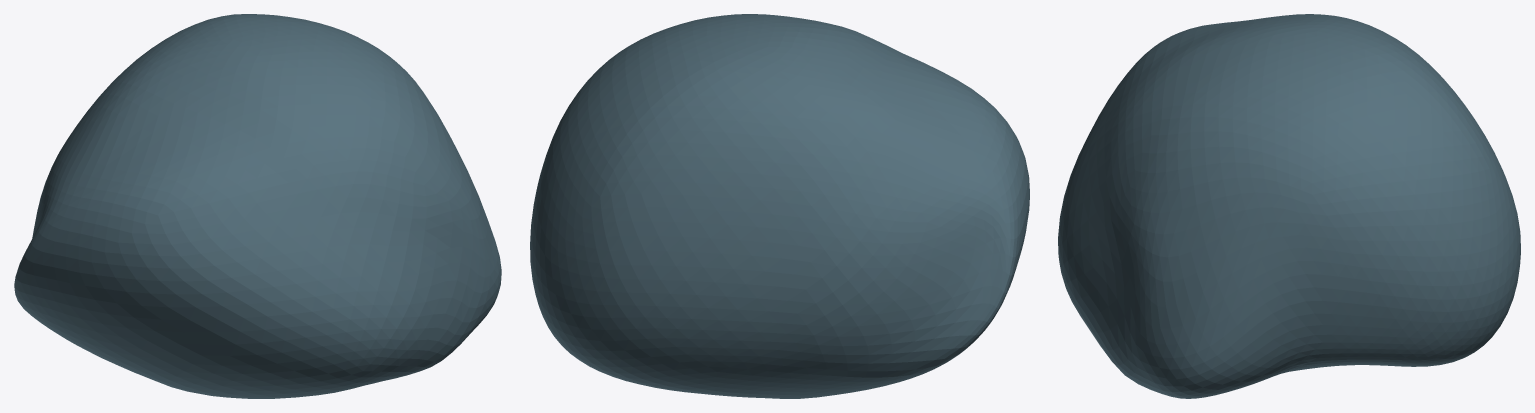
The model's file is Rock4.fbx.
3 views of the same model, side by side, from view 1: azimuth 30°, elevation 25°; view 2: azimuth 150°, elevation 25°; view 3: azimuth 270°, elevation 25° (orthographic). The views are drawn at different scales.
Visible parts, largest first — view 1: Rock4; view 2: Rock4; view 3: Rock4.
Boxes of the visible parts, bbox=[...] form: Rock4: bbox=[14, 14, 501, 398]; Rock4: bbox=[530, 14, 1029, 398]; Rock4: bbox=[1058, 14, 1520, 398].
Bounding box in the file's own units: 32.43 × 22.96 × 29.58.
